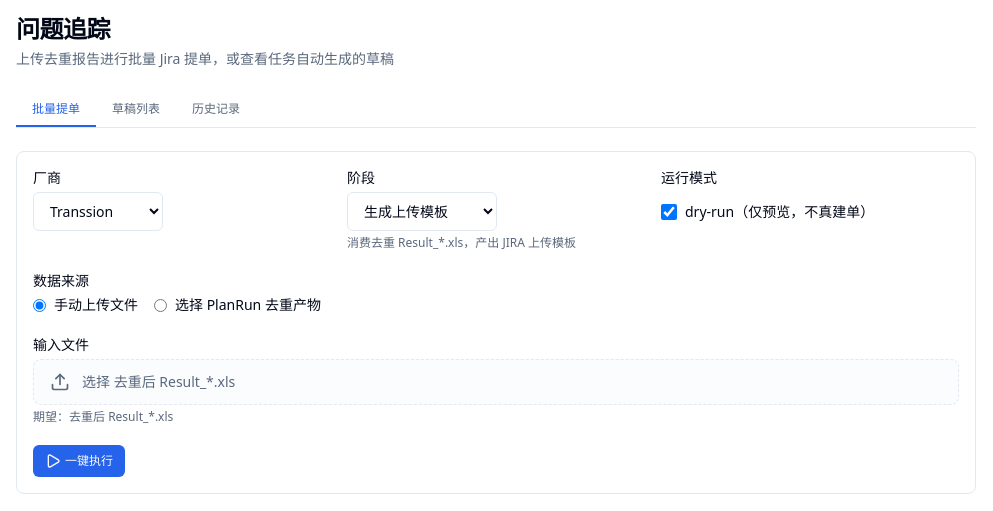
Scenario: IssueTrackerPage › shows an inline error when the drafts query fails outright
Click the tab with test id "issue-tracker-tab-drafts": click(136, 110) [96, 93, 176, 127]
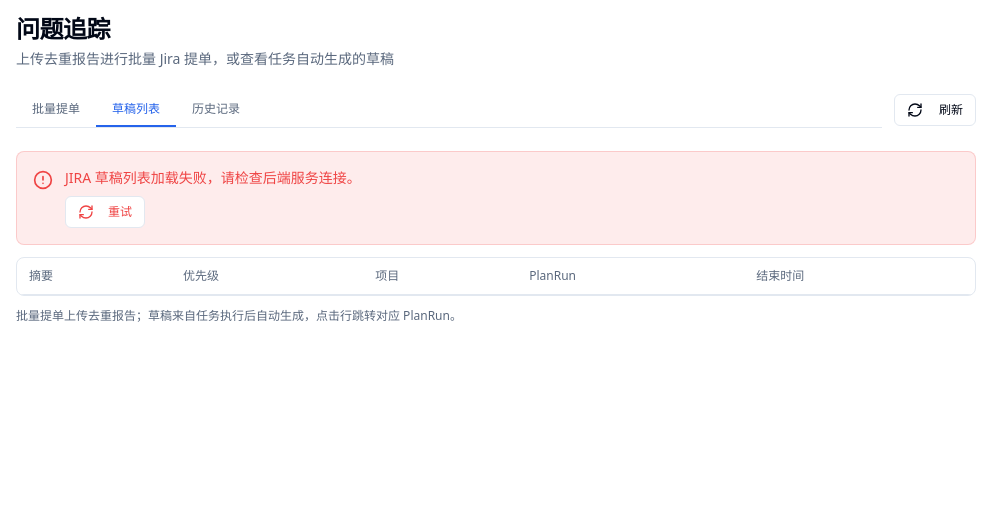
Check: the text "JIRA 草稿列表加载失败，请检查后端服务连接。" is shown, box [65, 168, 361, 187]
